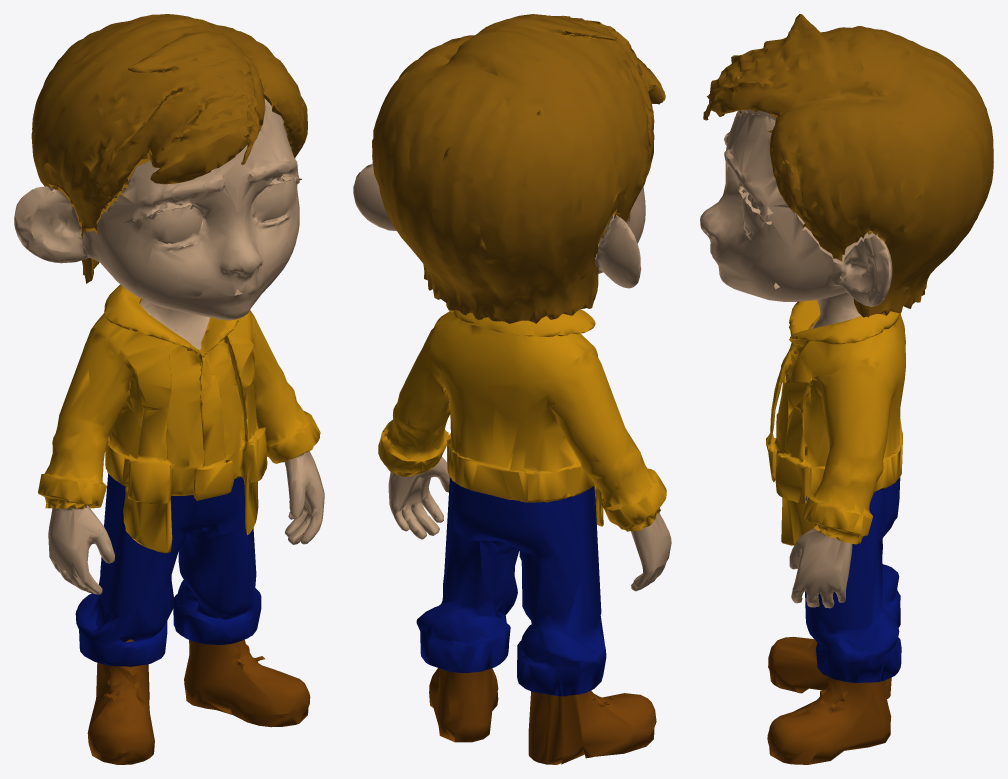
Rendered from Boy.glb.
3 views of the same model, side by side, from view 1: azimuth 30°, elevation 25°; view 2: azimuth 150°, elevation 25°; view 3: azimuth 270°, elevation 25° (orthographic). The views are drawn at different scales.
Parts seen in each view (by area): view 1: WShirt, WHead.001, WHead.020, WPants, WLeft_boot, WRight_Boot, WRight_Hand, WLeft_hand; view 2: WHead.001, WShirt, WPants, WRight_Boot, WHead.020, WLeft_boot, WLeft_hand, WRight_Hand; view 3: WHead.001, WShirt, WHead.020, WPants, WLeft_boot, WLeft_hand, WRight_Boot.
Part boxes in pixels (box(x1,y1,x2,y2)): WShirt: box(38, 284, 320, 553); WHead.001: box(31, 14, 307, 283); WHead.020: box(14, 98, 301, 349); WPants: box(75, 473, 261, 666); WLeft_boot: box(184, 639, 310, 727); WRight_Boot: box(87, 639, 154, 764); WRight_Hand: box(48, 505, 114, 594); WLeft_hand: box(284, 451, 324, 544); WHead.001: box(372, 14, 665, 323); WShirt: box(378, 35, 666, 531); WPants: box(416, 477, 606, 696); WRight_Boot: box(528, 690, 656, 764); WHead.020: box(353, 164, 645, 288); WLeft_boot: box(429, 668, 498, 742); WLeft_hand: box(388, 456, 449, 539); WRight_Hand: box(631, 513, 671, 591); WHead.001: box(703, 14, 993, 317); WShirt: box(766, 300, 905, 545); WHead.020: box(700, 110, 892, 328); WPants: box(805, 477, 901, 682); WLeft_boot: box(767, 677, 891, 764); WLeft_hand: box(789, 528, 852, 608); WRight_Boot: box(768, 636, 891, 698).
Bounding box in the file's own units: 0.8097 × 1.9 × 0.7494.
